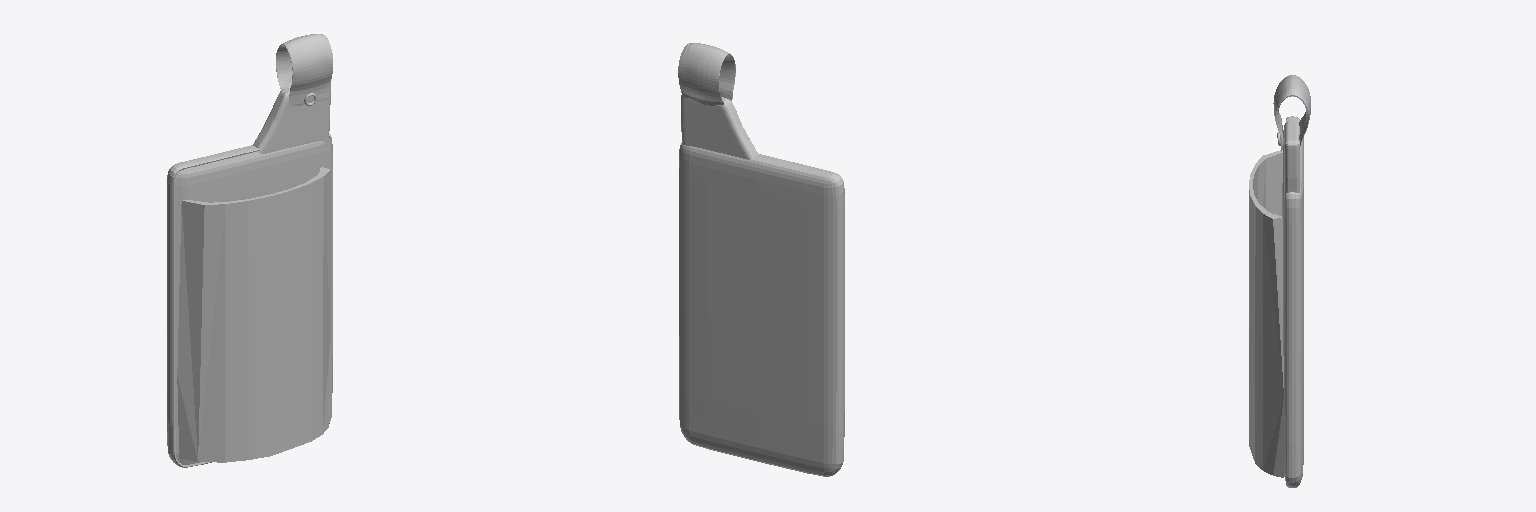
File: lowPoly_Sheath.obj
3 renders of one model, left to right at view 1: azimuth 30°, elevation 25°; view 2: azimuth 150°, elevation 25°; view 3: azimuth 270°, elevation 25°, orthographic.
Visible parts, largest first — view 1: pCylinder1, pCube1, pCube1 pTorus1, pCube1 pCube2; view 2: pCube1, pCube1 pCube2, pCube1 pTorus1; view 3: pCylinder1, pCube1, pCube1 pTorus1, pCube1 pCube2.
Part boxes in pixels (left/top/right/bottom): pCylinder1: left=177, top=167, right=330, bottom=462; pCube1: left=167, top=133, right=332, bottom=467; pCube1 pTorus1: left=276, top=34, right=332, bottom=107; pCube1 pCube2: left=253, top=88, right=330, bottom=153; pCube1: left=679, top=143, right=844, bottom=476; pCube1 pCube2: left=681, top=95, right=757, bottom=159; pCube1 pTorus1: left=678, top=43, right=735, bottom=105; pCylinder1: left=1249, top=150, right=1283, bottom=477; pCube1: left=1282, top=116, right=1303, bottom=487; pCube1 pTorus1: left=1273, top=75, right=1310, bottom=151; pCube1 pCube2: left=1284, top=122, right=1299, bottom=198.
Bounding box in the file's own units: 0.1675 × 0.394 × 0.0557.